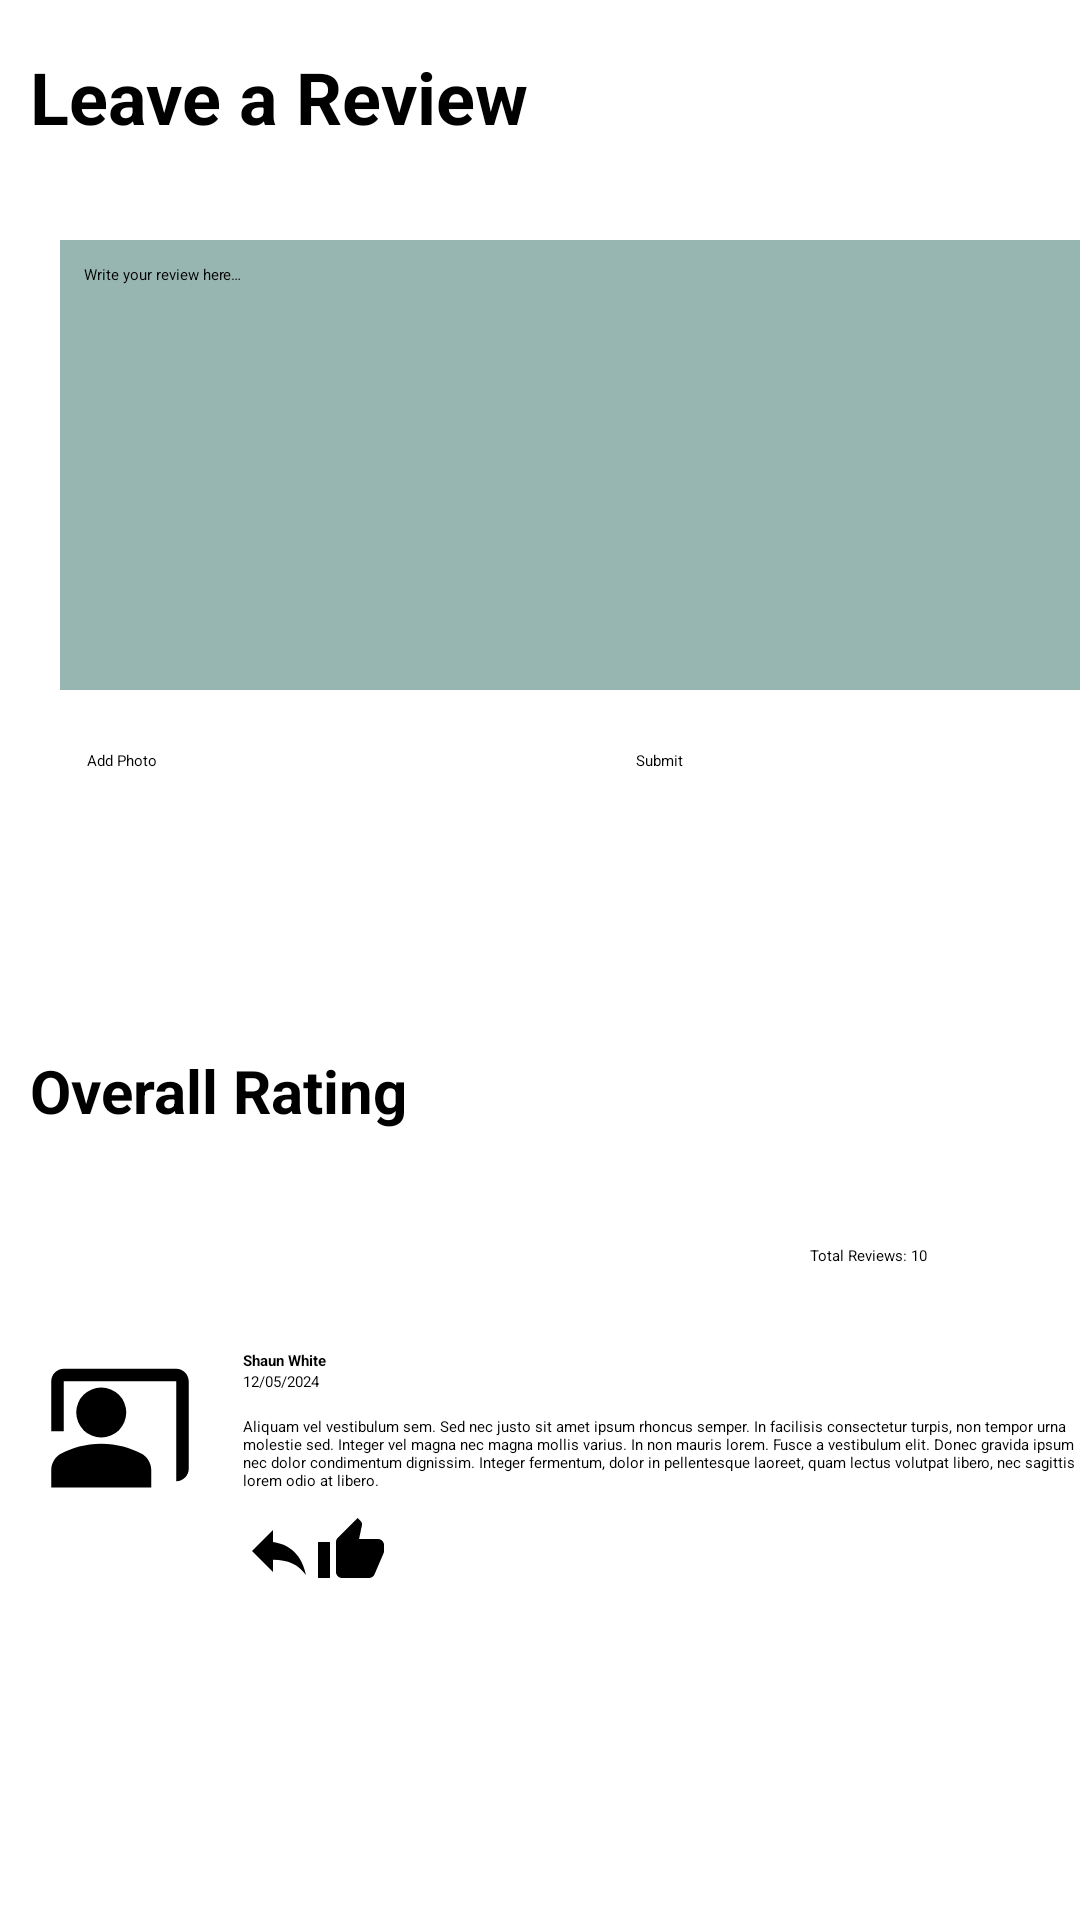

Named icons in this screenshot (1080w x 1920h) and their bounding boxes, Rect(x1, y1, x2, y2):
co present: Rect(51, 1368, 189, 1488)
reply: Rect(252, 1530, 306, 1575)
thumb up: Rect(318, 1518, 384, 1578)
